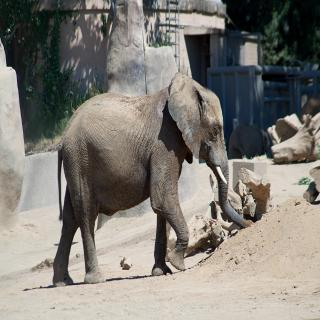Elephant: (50, 70, 255, 288)
